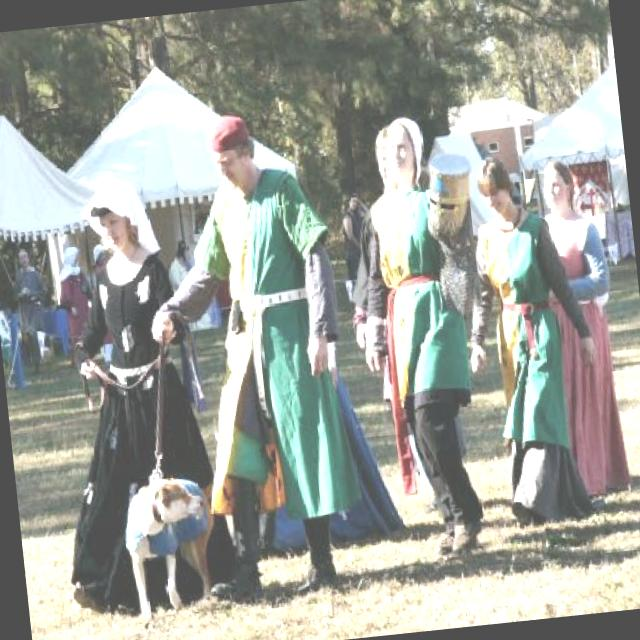Person: (127, 103, 366, 612), (28, 173, 241, 616), (446, 146, 614, 536), (332, 119, 477, 520), (233, 336, 412, 550), (532, 154, 634, 498), (162, 236, 224, 336), (9, 245, 55, 378), (53, 244, 101, 367), (337, 193, 376, 292), (90, 243, 116, 364)
